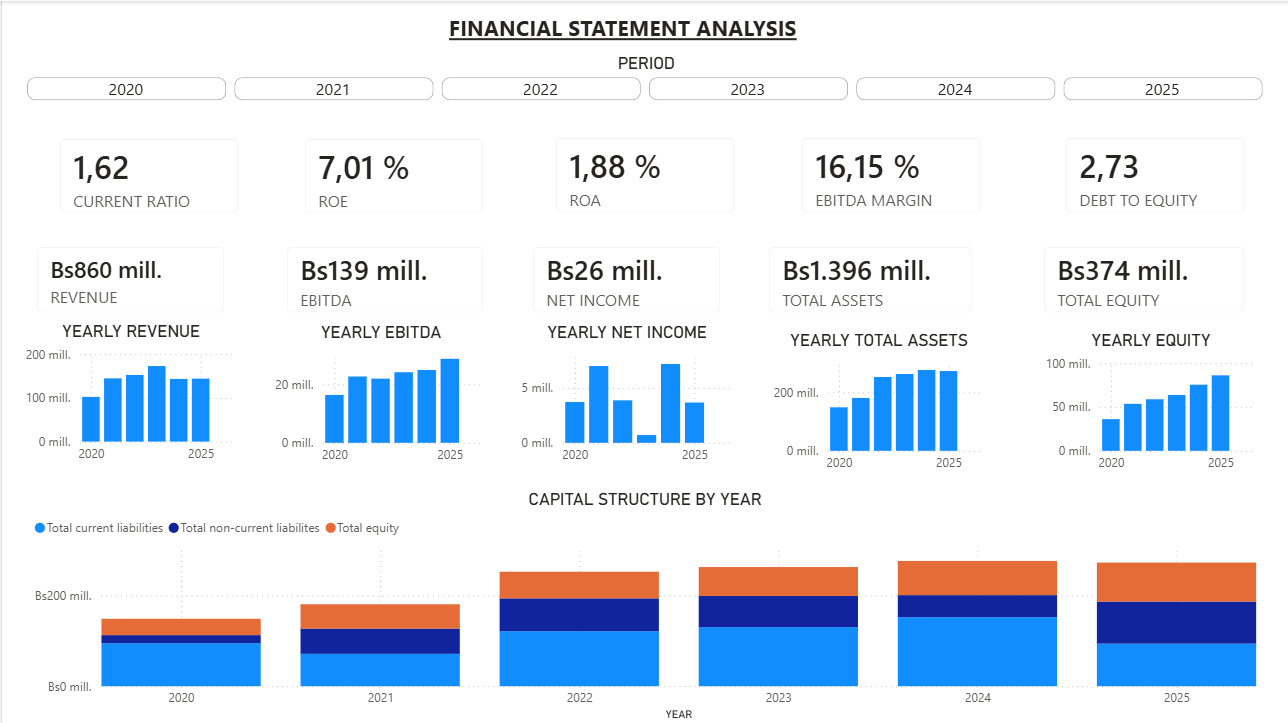

What the dashboard file says about the page in this screenshot:
{"tool":"powerbi","page":{"name":"OVERVIEW","canvas":[1280,720],"ordinal":0},"visuals":[{"type":"cardVisual","fields":{"Data":["MEDIDAS.IngresosOP"]},"box":[17.3,132.3,228.2,81.5],"z":0},{"type":"cardVisual","fields":{"Data":["MEDIDAS.EBITDA"]},"box":[272.3,220.5,228.2,81.5],"z":1000},{"type":"cardVisual","fields":{"Data":["MEDIDAS.Resultado Neto"]},"box":[524.5,220.5,228.2,81.5],"z":2000},{"type":"cardVisual","fields":{"Data":["MEDIDAS.Total Activo"]},"box":[778.5,220.5,228.2,81.5],"z":3000},{"type":"cardVisual","fields":{"Data":["DimCategoria.Operating cash flow"]},"box":[1031.7,220.5,226.3,81.5],"z":4000},{"type":"lineChart","title":"YEARLY REVENUE","fields":{"Category":["DimFecha.Año"],"Y":["MEDIDAS.IngresosOP"]},"box":[17.3,310.7,227.9,149.9],"z":5000},{"type":"lineChart","title":"YEARLY EBITDA","fields":{"Category":["DimFecha.Año"],"Y":["MEDIDAS.EBITDA"]},"box":[272.3,310.7,227.9,150.7],"z":6000},{"type":"clusteredColumnChart","title":"YEARLY NET INCOME","fields":{"Category":["DimFecha.Año"],"Y":["MEDIDAS.Resultado Neto"]},"box":[524.5,310.7,227.9,150.7],"z":7000},{"type":"areaChart","title":"YEARLY TOTAL ASSETS","fields":{"Category":["DimFecha.Año"],"Y":["MEDIDAS.Total Activo"]},"box":[778.5,309.7,227.9,150.7],"z":8000},{"type":"clusteredColumnChart","title":"YEARLY OCF","fields":{"Category":["DimFecha.Año"],"Y":["DimCategoria.Operating cash flow"]},"box":[1031.7,310.7,227,150.7],"z":9000},{"type":"columnChart","title":"FINANCING STRUCTURE BY YEAR","fields":{"Category":["DimFecha.Año"],"Y":["MEDIDAS.Current liabilities","MEDIDAS.Non-current liabilites","MEDIDAS.Equity"]},"box":[17.3,467.9,1240.7,252.2],"z":10000},{"type":"textbox","box":[0,0,532,58.5],"z":11000},{"type":"cardVisual","fields":{"Data":["MEDIDAS.Razón corriente"]},"box":[778.5,132.3,228.2,81.5],"z":12000},{"type":"cardVisual","fields":{"Data":["MEDIDAS.ROE"]},"box":[17.3,220.5,228.2,81.5],"z":13000},{"type":"cardVisual","fields":{"Data":["MEDIDAS.ROA"]},"box":[524.5,132.3,228.2,81.5],"z":14000},{"type":"cardVisual","fields":{"Data":["MEDIDAS.Margen EBITDA"]},"box":[272.3,132.3,228.2,81.5],"z":15000},{"type":"cardVisual","fields":{"Data":["MEDIDAS.Apalancamiento"]},"box":[1031.7,132.3,226.3,81.5],"z":16000},{"type":"advancedSlicerVisual","title":"PERIOD","fields":{"Values":["DimFecha.Año"]},"box":[0,58.8,1280,73.5],"z":17000},{"type":"pageNavigator","box":[711.4,4.8,560.9,49.9],"z":18000}]}

Visuals, with their boxes in screenshot pixels (x1, y1, x2, y2), scaled from the page's 1280x720 canvas onto the 1288x723 screenshot:
cardVisual - MEDIDAS.IngresosOP: {"left": 17, "top": 133, "right": 247, "bottom": 215}
cardVisual - MEDIDAS.EBITDA: {"left": 274, "top": 221, "right": 504, "bottom": 303}
cardVisual - MEDIDAS.Resultado Neto: {"left": 528, "top": 221, "right": 757, "bottom": 303}
cardVisual - MEDIDAS.Total Activo: {"left": 783, "top": 221, "right": 1013, "bottom": 303}
cardVisual - DimCategoria.Operating cash flow: {"left": 1038, "top": 221, "right": 1266, "bottom": 303}
"YEARLY REVENUE" lineChart: {"left": 17, "top": 312, "right": 247, "bottom": 463}
"YEARLY EBITDA" lineChart: {"left": 274, "top": 312, "right": 503, "bottom": 463}
"YEARLY NET INCOME" clusteredColumnChart: {"left": 528, "top": 312, "right": 757, "bottom": 463}
"YEARLY TOTAL ASSETS" areaChart: {"left": 783, "top": 311, "right": 1013, "bottom": 462}
"YEARLY OCF" clusteredColumnChart: {"left": 1038, "top": 312, "right": 1267, "bottom": 463}
"FINANCING STRUCTURE BY YEAR" columnChart: {"left": 17, "top": 470, "right": 1266, "bottom": 722}
textbox: {"left": 0, "top": 0, "right": 535, "bottom": 59}
cardVisual - MEDIDAS.Razón corriente: {"left": 783, "top": 133, "right": 1013, "bottom": 215}
cardVisual - MEDIDAS.ROE: {"left": 17, "top": 221, "right": 247, "bottom": 303}
cardVisual - MEDIDAS.ROA: {"left": 528, "top": 133, "right": 757, "bottom": 215}
cardVisual - MEDIDAS.Margen EBITDA: {"left": 274, "top": 133, "right": 504, "bottom": 215}
cardVisual - MEDIDAS.Apalancamiento: {"left": 1038, "top": 133, "right": 1266, "bottom": 215}
"PERIOD" advancedSlicerVisual: {"left": 0, "top": 59, "right": 1287, "bottom": 133}
pageNavigator: {"left": 716, "top": 5, "right": 1280, "bottom": 55}
